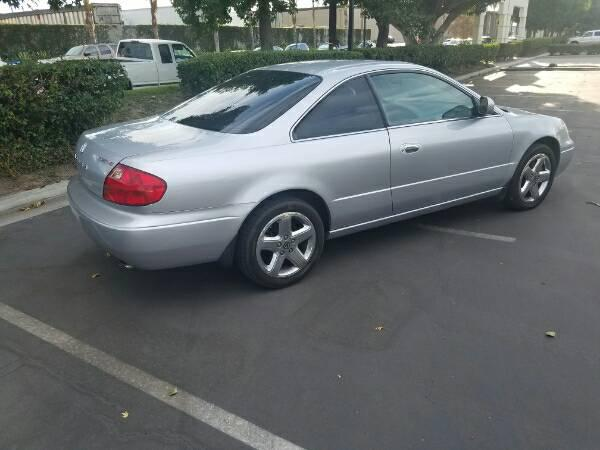acura: (64, 51, 579, 292)
